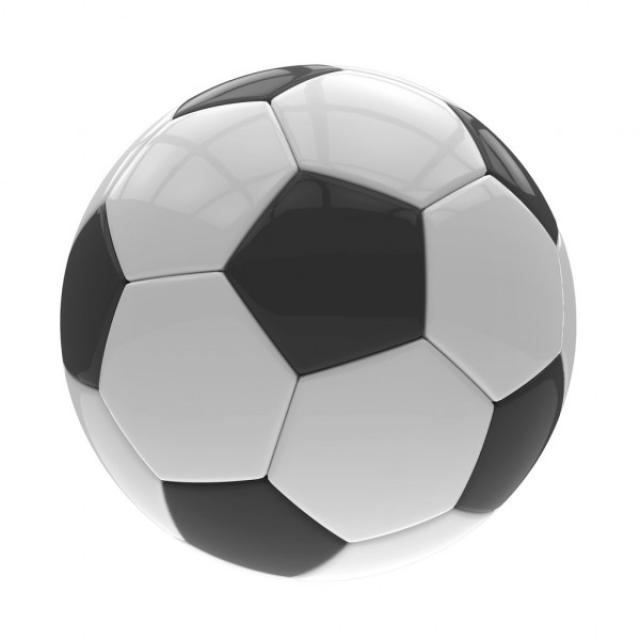soccer ball: (61, 62, 574, 583)
